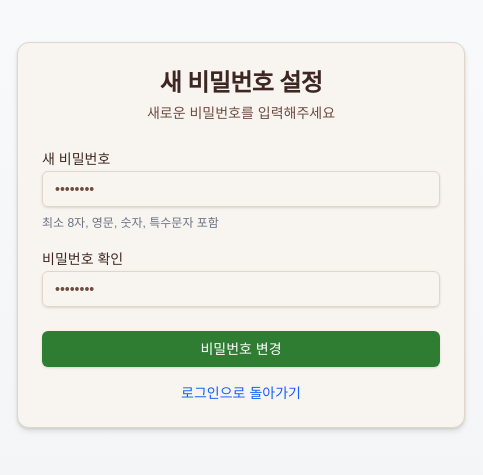
Test: UpdatePasswordPage › 비밀번호 일치 확인 › 비밀번호가 일치하지 않으면 에러 메시지를 표시한다
This screenshot has width=483, height=475.
Type "TestTest123!" into the password field labelled "새 비밀번호" at [241, 189], box [42,171,440,207]
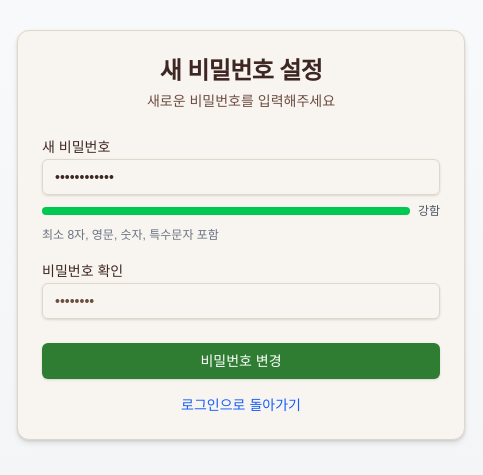
Type "TestTest456!" into the password field labelled "비밀번호 확인" at [241, 301], box [42,283,440,319]
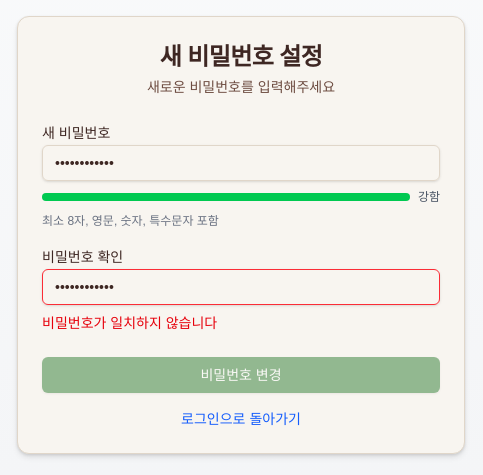
Now the text "비밀번호가 일치하지 않습니다" is shown, box [42,315,217,331]
